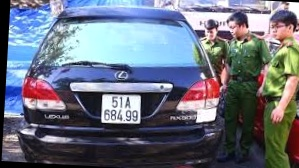Bien-so: (105, 99, 148, 128)
